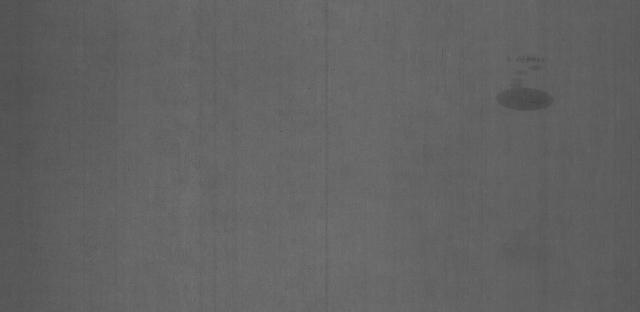oil_spot: (491, 55, 558, 119)
